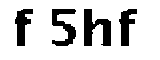5: (48, 7, 80, 48)
f: (117, 4, 145, 53), (13, 6, 37, 47)
h: (81, 7, 112, 51)
